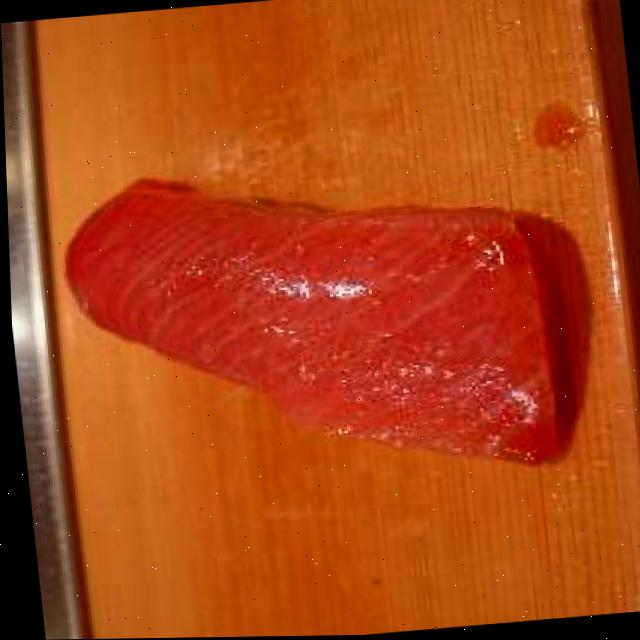寿司卷物: (3, 96, 640, 538)
